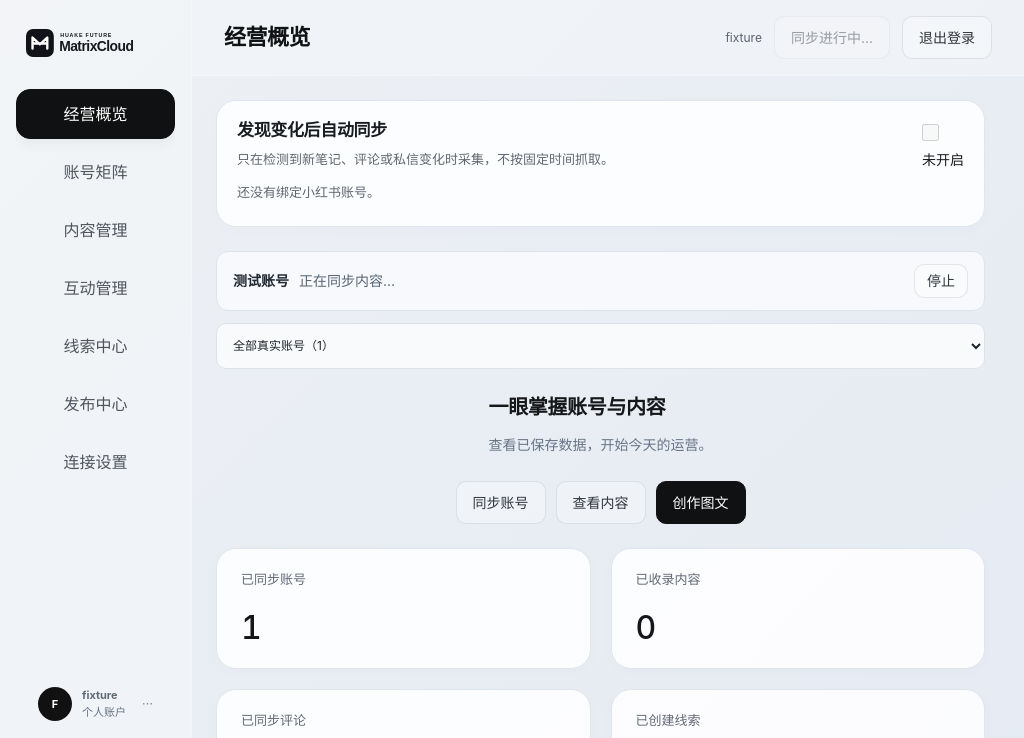
Test: a late running response cannot overwrite a confirmed stop
This screenshot has width=1024, height=738.
Later steps or results of the test are not shown.
Click the button "停止".
click(941, 281)  # box [914,264,968,298]
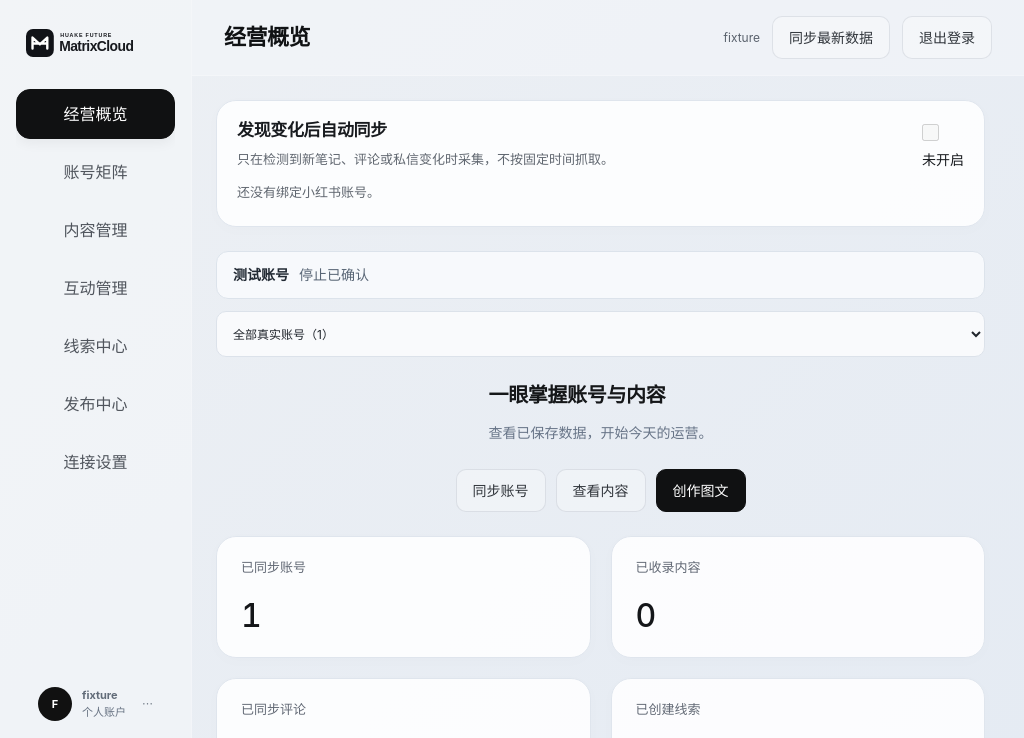
Result: the text "停止已确认" is shown at [299,266,369,283]
Result: the button "同步最新数据" is enabled at [772,16,890,59]
